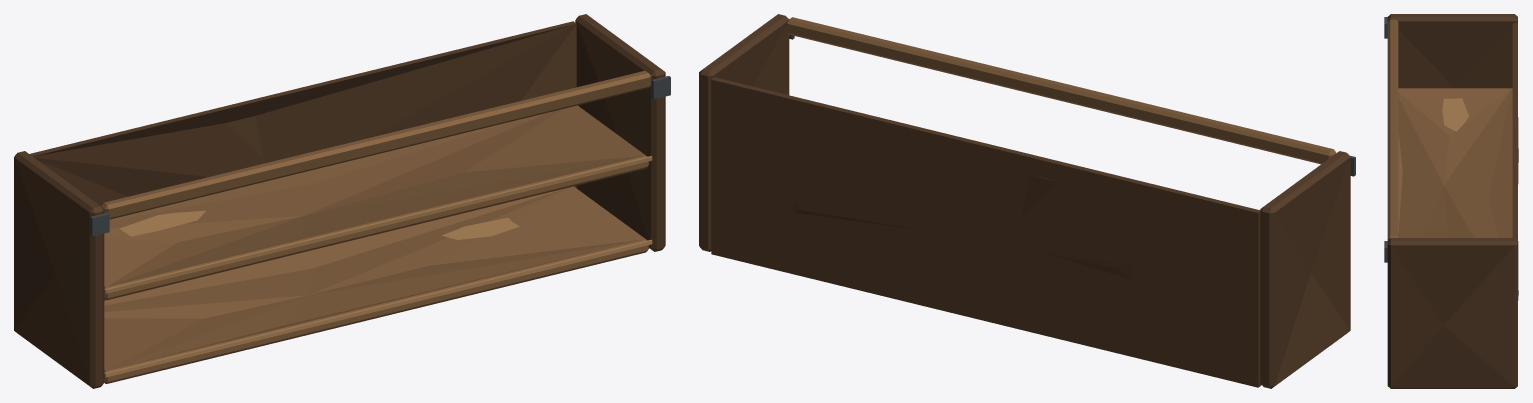
File: shelf_wood_dvoynaya_idle.glb
The picture shows the model from 3 angles, left to right: view 1: azimuth 30°, elevation 25°; view 2: azimuth 150°, elevation 25°; view 3: azimuth 270°, elevation 25°; orthographic projection. The views are drawn at different scales.
Parts seen in each view (by area): view 1: shelf_wood_dvoynaya_idle; view 2: shelf_wood_dvoynaya_idle; view 3: shelf_wood_dvoynaya_idle.
Part boxes in pixels (box(x1,y1,x2,y2)): shelf_wood_dvoynaya_idle: box(14, 14, 670, 388); shelf_wood_dvoynaya_idle: box(699, 14, 1355, 388); shelf_wood_dvoynaya_idle: box(1384, 14, 1518, 388).
Size of the model in its own units: 1 by 0.3 by 0.247.
1 material, 1 textured.
